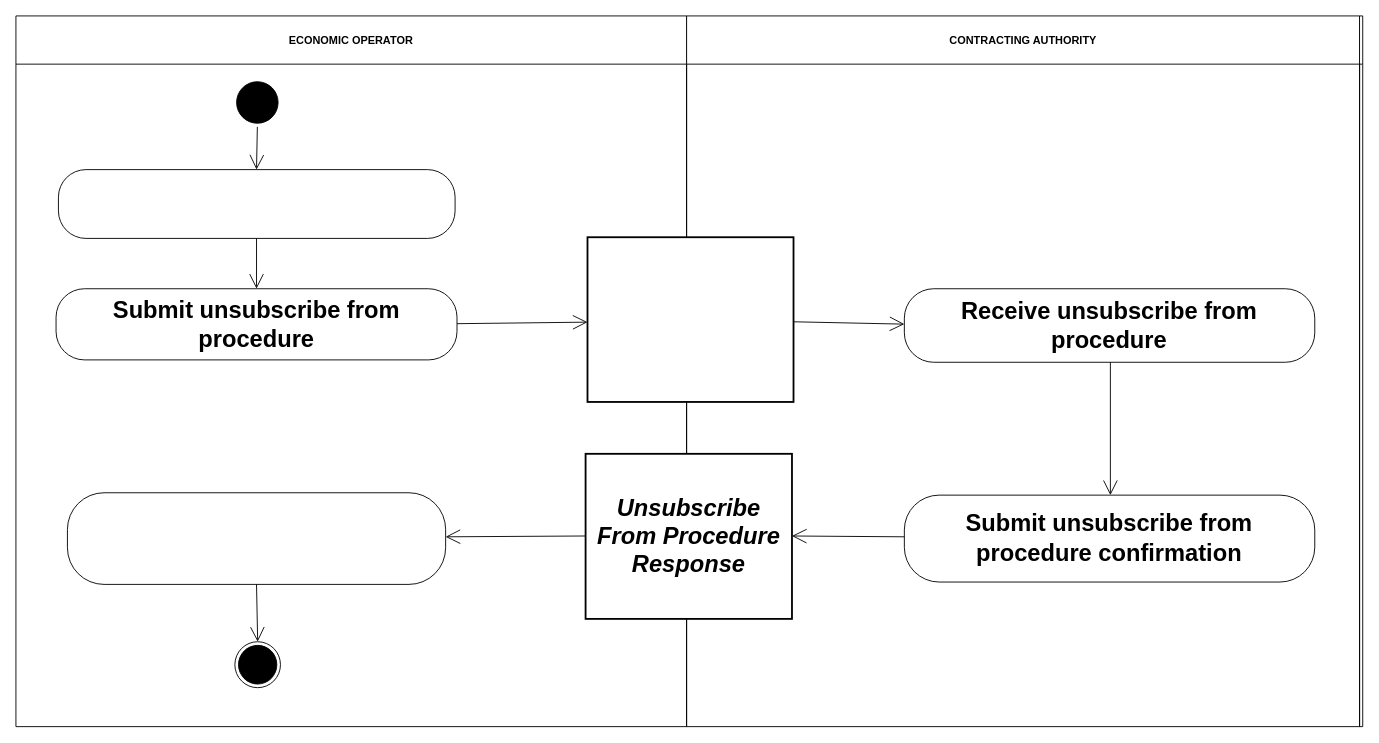
The diagram is 1379 pixels wide and 743 high, and some of its shapes have lost their labels. Each missing label, with the centre of its shape:
Prepare unsubscribe from procedure: (x=256, y=203)
Receive unsubscribe from procedur 1 confirmation: (x=256, y=538)
Unsubscribe From Procedure Request: (x=690, y=319)
